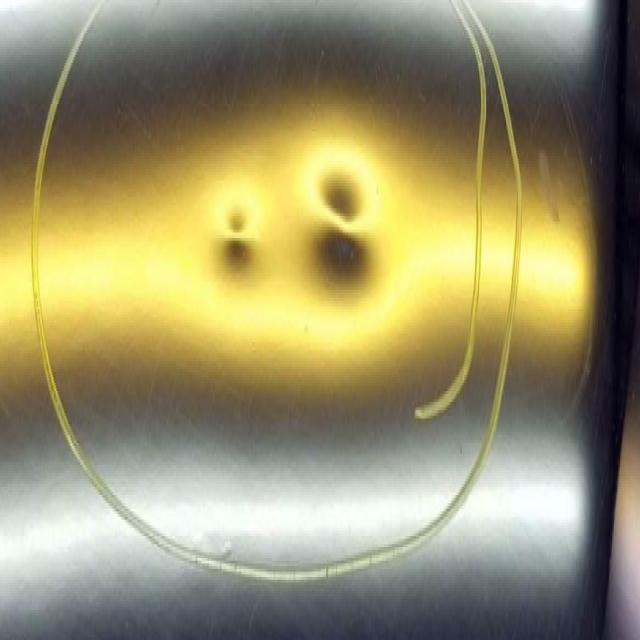dents: (307, 88, 378, 342), (213, 192, 262, 336)
